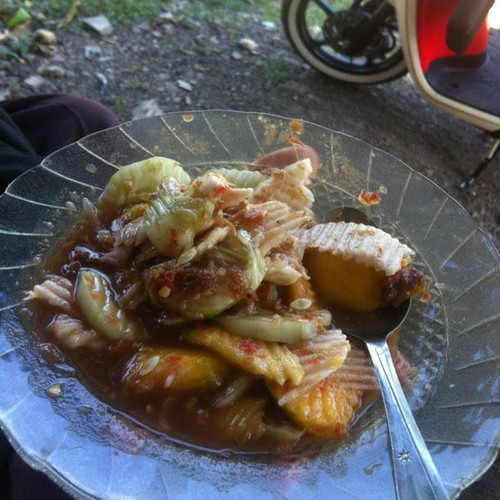rujak buleleng: (68, 171, 309, 429)
